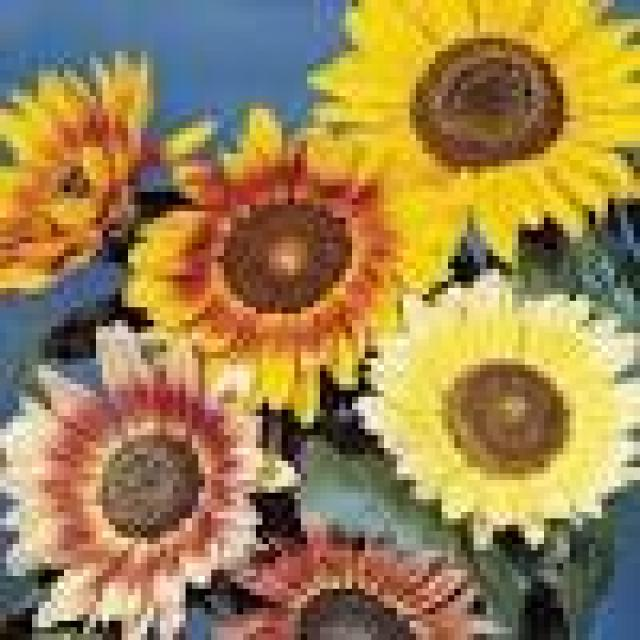sunflower: (293, 0, 640, 308), (118, 142, 458, 428), (349, 264, 640, 556), (4, 35, 184, 310), (184, 525, 513, 640)
